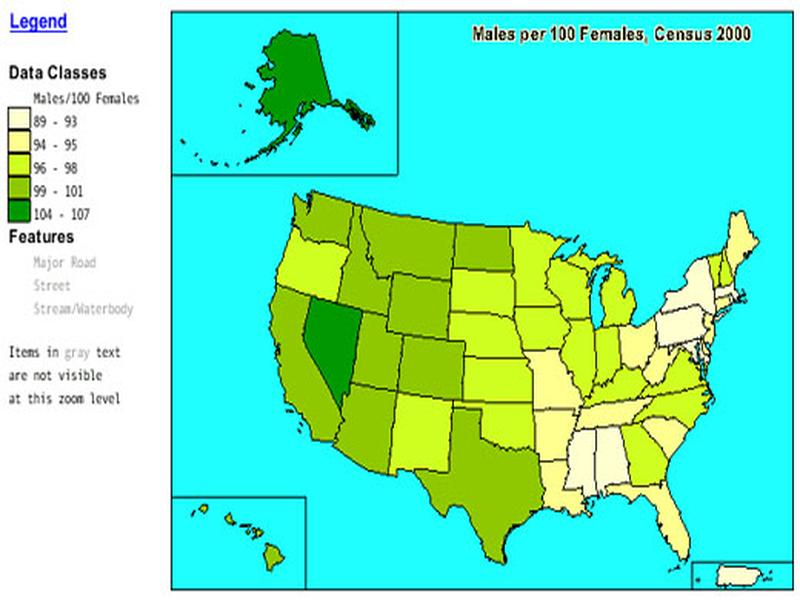legend: (6, 11, 141, 226)
